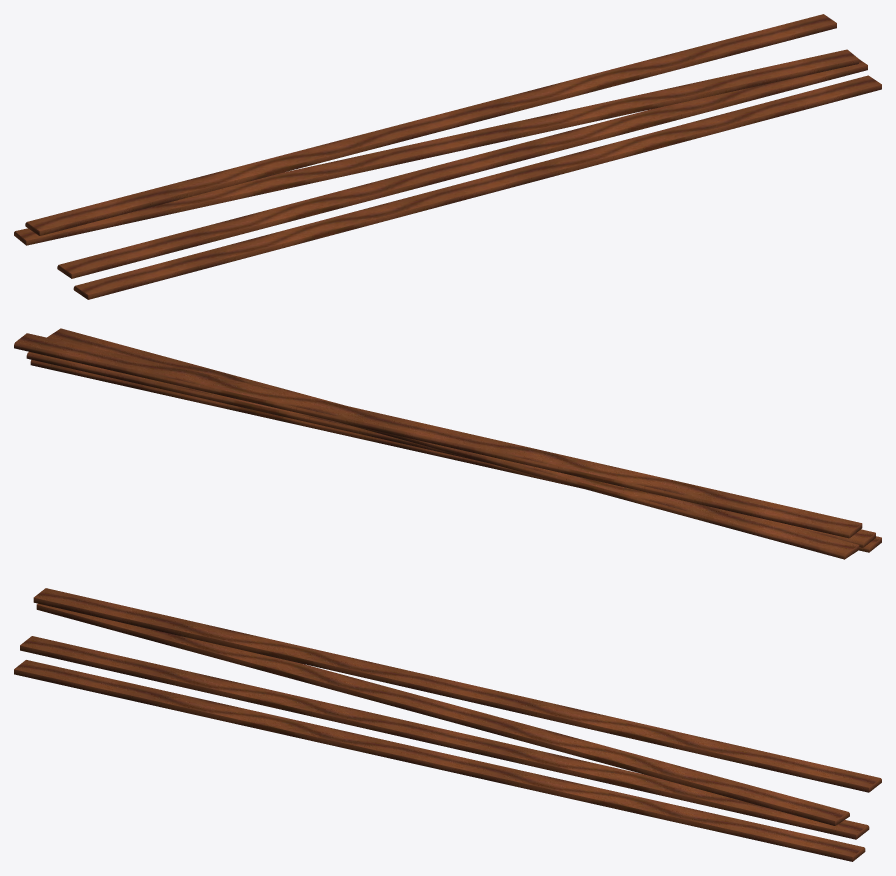
Rendered from PIS-ROD-002_anim.glb.
3 renders of one model, top to bottom at view 1: azimuth 30°, elevation 25°; view 2: azimuth 150°, elevation 25°; view 3: azimuth 330°, elevation 25°, orthographic.
Parts seen in each view (by area): view 1: PIS-ROD-002_anim3, PIS-ROD-002_anim0, PIS-ROD-002_anim1, PIS-ROD-002_anim2; view 2: PIS-ROD-002_anim3, PIS-ROD-002_anim2, PIS-ROD-002_anim1, PIS-ROD-002_anim0; view 3: PIS-ROD-002_anim0, PIS-ROD-002_anim3, PIS-ROD-002_anim1, PIS-ROD-002_anim2.
Part boxes in pixels (x1,y1,x2,y2): PIS-ROD-002_anim3: (25,14,836,235); PIS-ROD-002_anim0: (73,75,881,299); PIS-ROD-002_anim1: (57,59,867,278); PIS-ROD-002_anim2: (14,49,858,245); PIS-ROD-002_anim3: (14,333,862,538); PIS-ROD-002_anim2: (47,328,859,559); PIS-ROD-002_anim1: (26,352,875,547); PIS-ROD-002_anim0: (30,359,881,552); PIS-ROD-002_anim0: (14,660,865,861); PIS-ROD-002_anim3: (33,588,881,792); PIS-ROD-002_anim1: (20,636,869,839); PIS-ROD-002_anim2: (36,603,849,825).
Bounding box in the file's own units: 2.46 × 0.1349 × 0.3146.
Materials: 1 (1 with a texture image).
